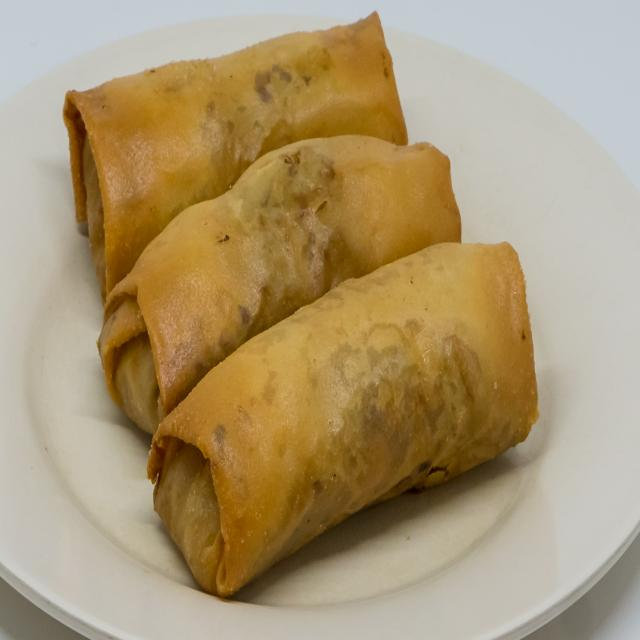Lumpia-Semarang: (56, 6, 551, 612)
